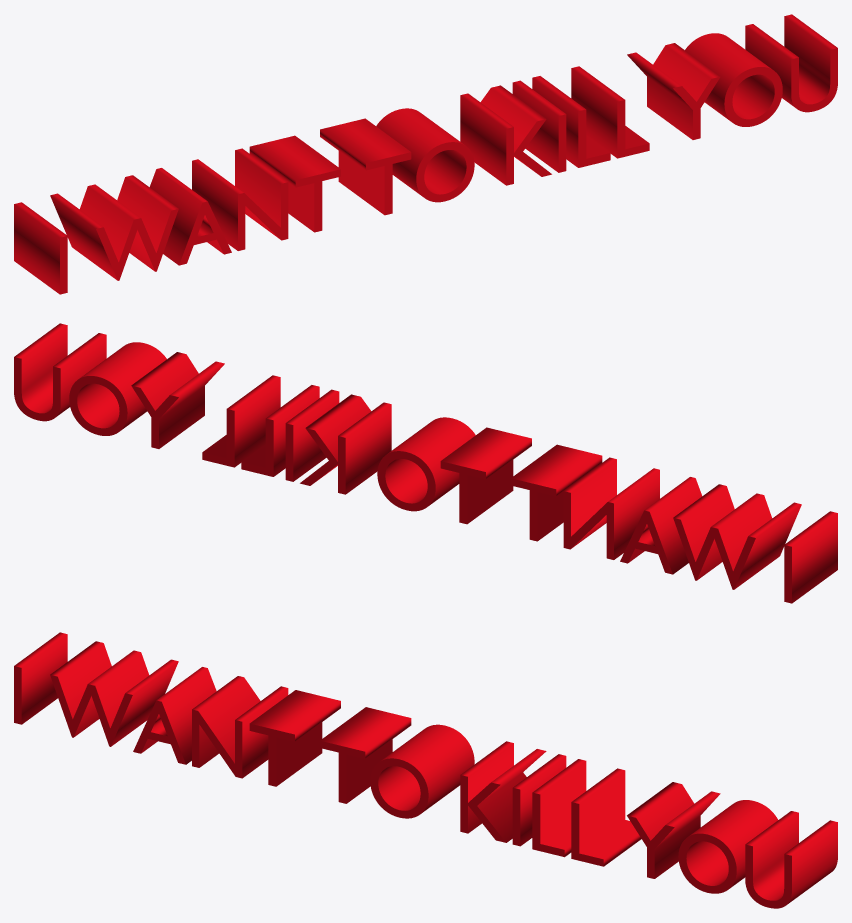
Rendered from Wrath2.fbx.
3 renders of one model, top to bottom at view 1: azimuth 30°, elevation 25°; view 2: azimuth 150°, elevation 25°; view 3: azimuth 330°, elevation 25°, orthographic.
Parts seen in each view (by area): view 1: Text; view 2: Text; view 3: Text.
Part boxes in pixels (box(x1,y1,x2,y2)): Text: box(14, 14, 837, 294); Text: box(14, 323, 837, 603); Text: box(14, 632, 837, 908).
Bounding box in the file's own units: 977 × 70 × 100.
